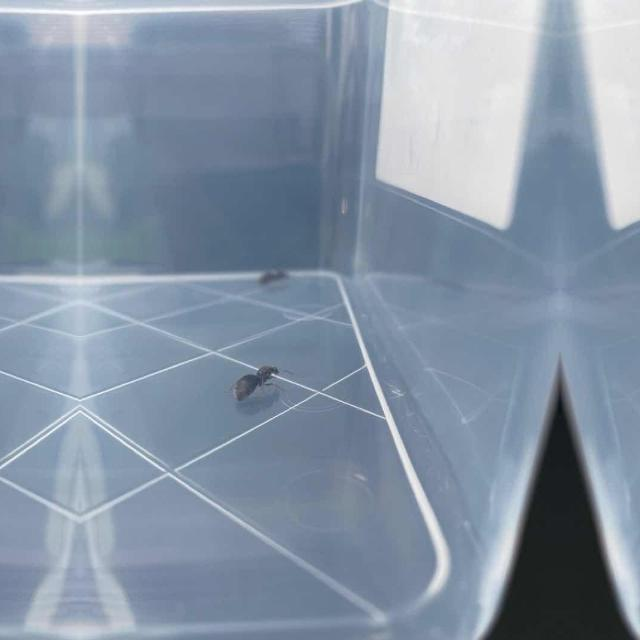Formica: (225, 346, 279, 398)
